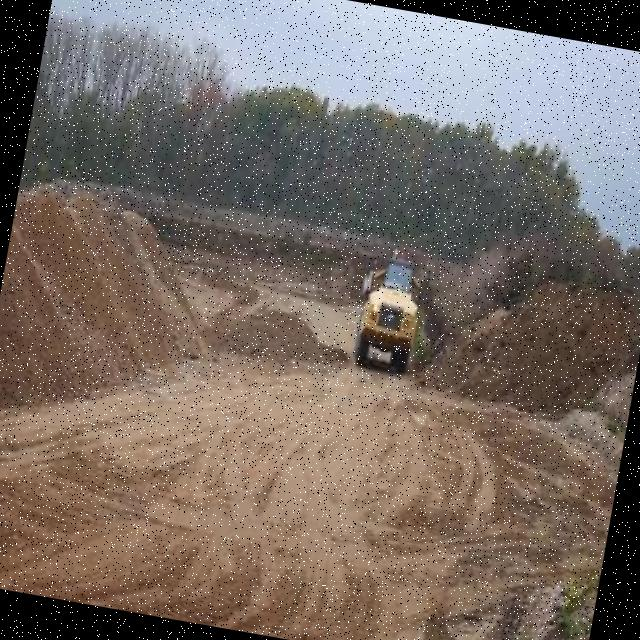Dump Truck: (345, 242, 436, 377)
